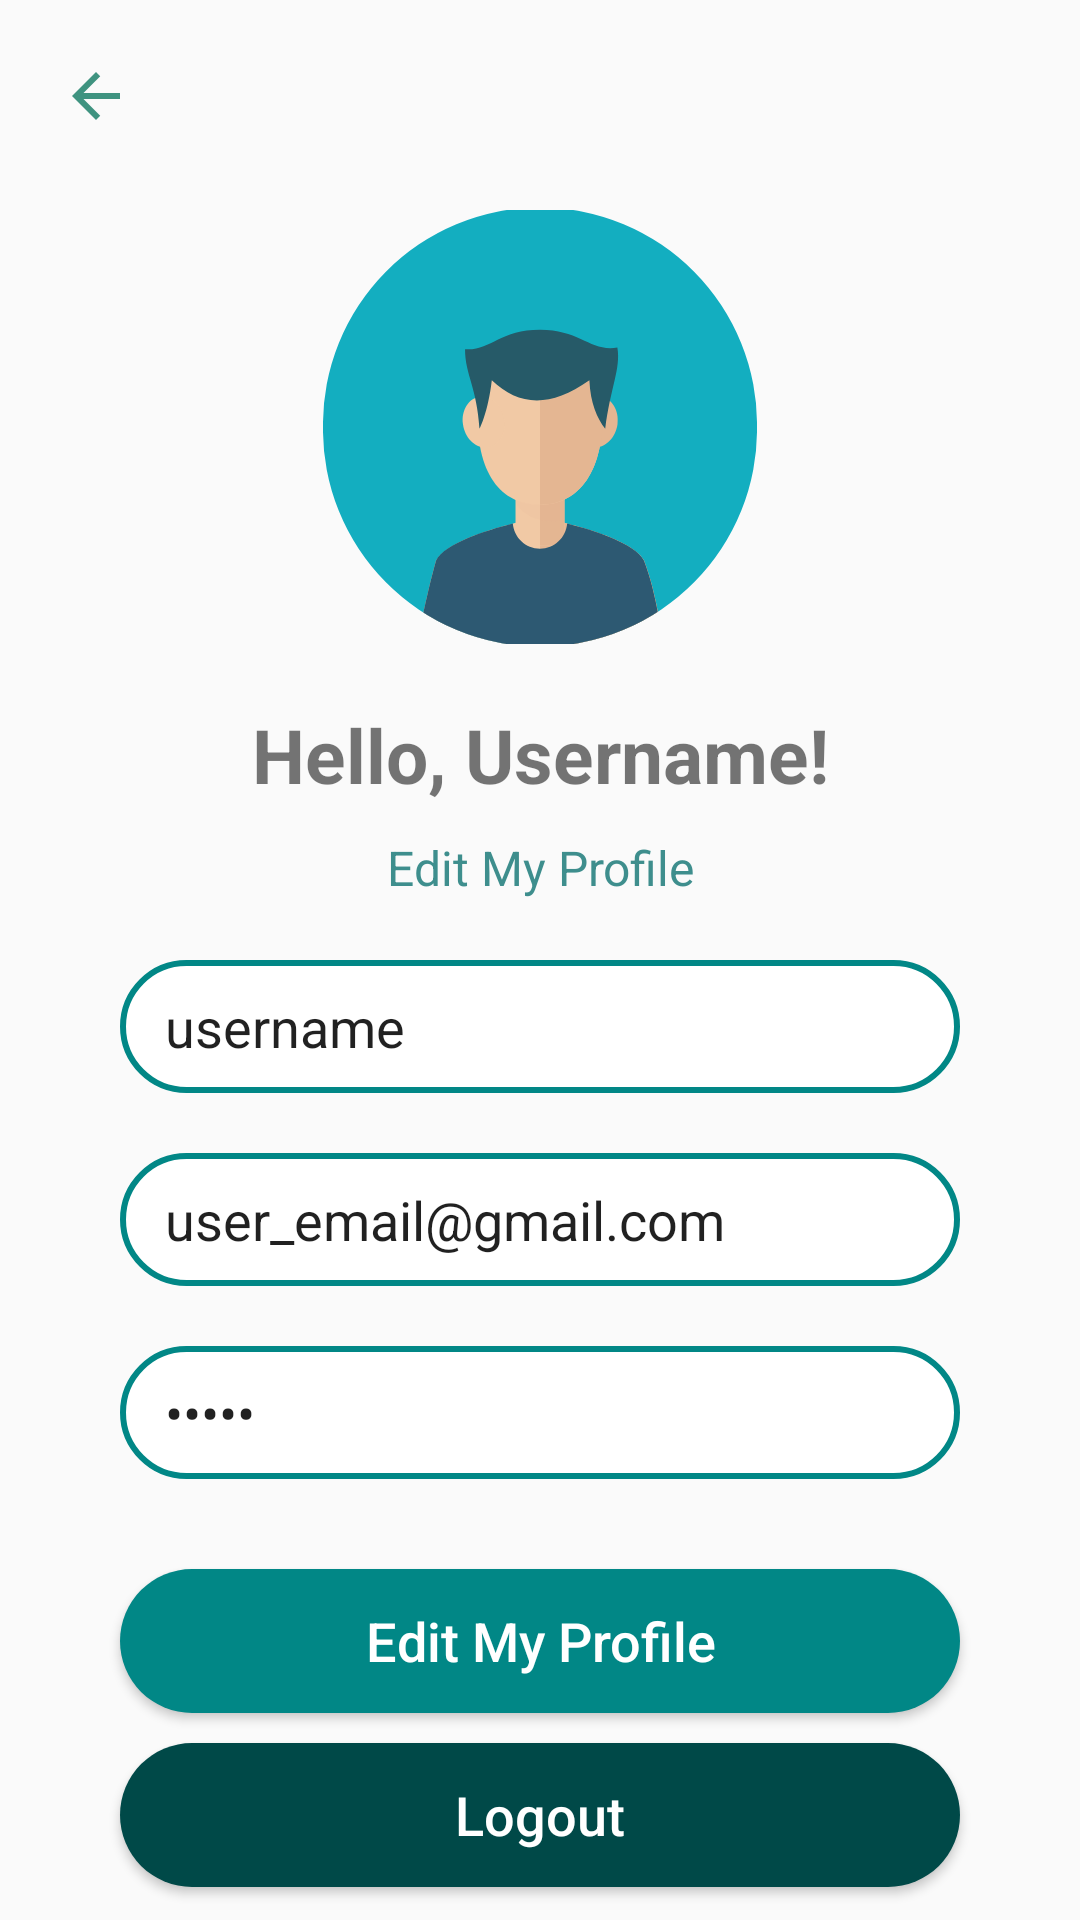

Screen size 1080px×1920px. Icon name, then its box in pixels as (x1, y1, x2, y2):
arrow back: (72, 72, 120, 120)
